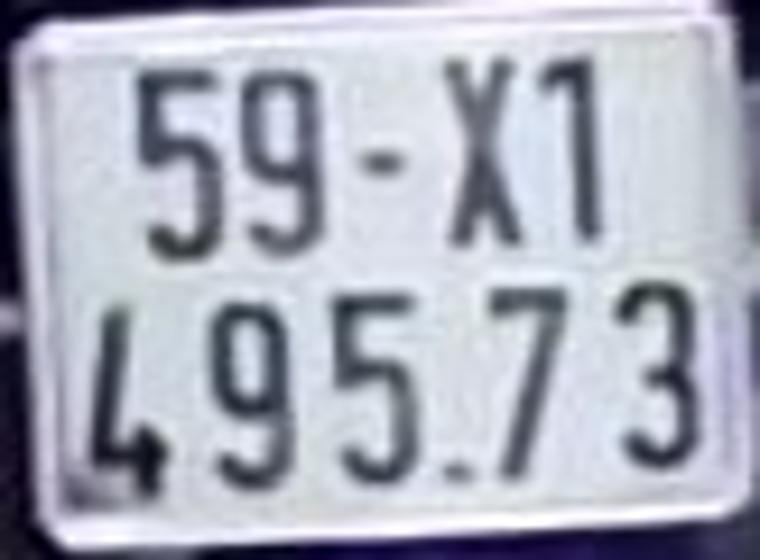-: (354, 145, 407, 178)
.: (441, 455, 468, 490)
1: (542, 51, 609, 253)
3: (609, 278, 703, 470)
4: (83, 308, 173, 495)
5: (330, 285, 426, 485), (131, 68, 228, 263)
7: (483, 289, 574, 484)
9: (204, 302, 305, 491), (236, 68, 330, 270)
X: (438, 56, 535, 260)
